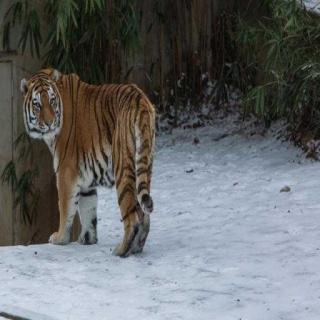Tiger: (17, 62, 158, 262)
